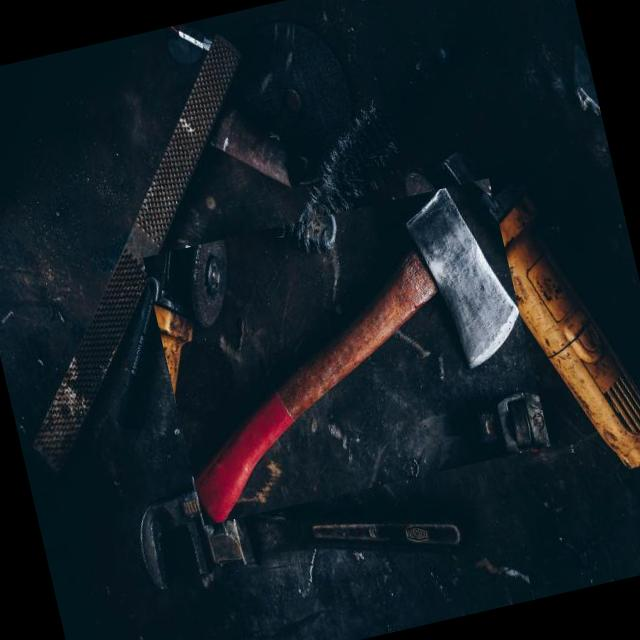Axe: (195, 188, 519, 522)
